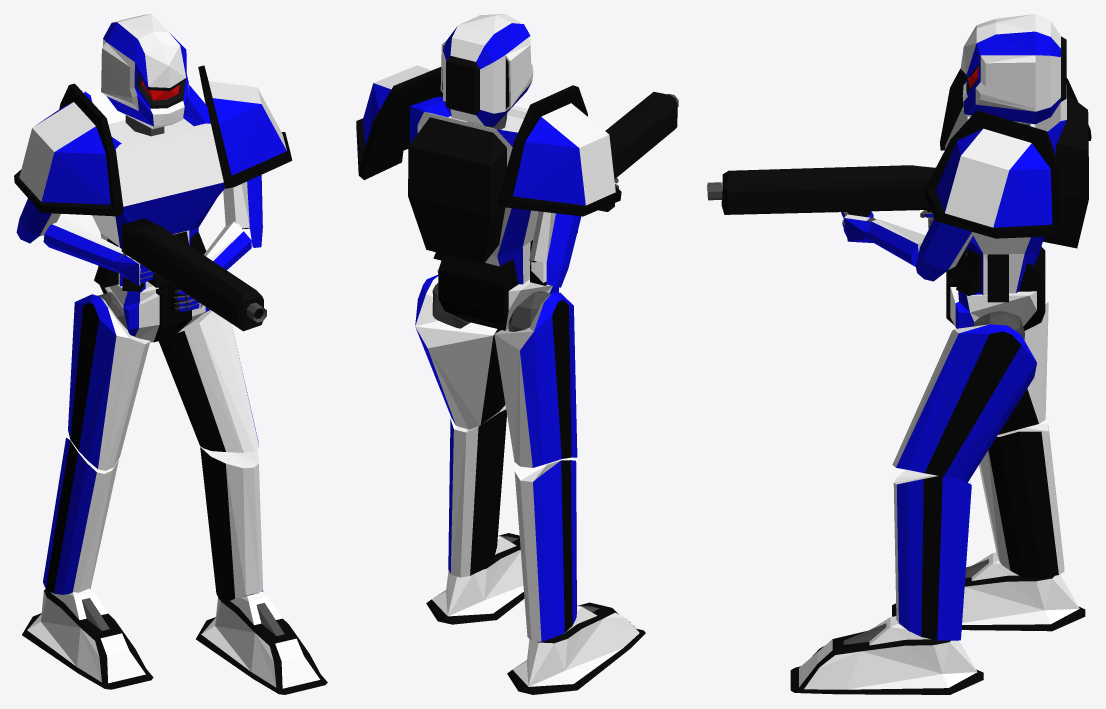
File: robots_000020.obj
3 renders of one model, left to right at view 1: azimuth 30°, elevation 25°; view 2: azimuth 150°, elevation 25°; view 3: azimuth 270°, elevation 25°, orthographic. The views are drawn at different scales.
Parts seen in each view (by area): view 1: Chest_plate_Cube.004, R_Thigh_Cube.005, Cube.002_Cube.059, R_Thigh.002_Cube.027, Head_base_Cube.022, R_Shin.002_Cube.029, R_Foot.002_Cube.035, R_Foot_Cube, R_Shin_Cube.007, Cube_Cube.001, Cube_Cube.021, Pelvis_Cube.006 (+5 smaller); view 2: Chest_plate_Cube.004, Cube.002_Cube.059, R_Thigh_Cube.005, R_Shin_Cube.007, Head_base_Cube.022, R_Shin.002_Cube.029, R_Thigh.002_Cube.027, R_Foot_Cube, Cube_Cube.021, Pelvis_Cube.006, R_Foot.002_Cube.035, Cube_Cube.001 (+3 smaller); view 3: Cube_Cube.021, R_Thigh.002_Cube.027, R_Shin.002_Cube.029, R_Foot.002_Cube.035, R_Shin_Cube.007, Head_base_Cube.022, Cube_Cube.001, Chest_plate_Cube.004, R_Foot_Cube, Pelvis_Cube.006, R_Thigh_Cube.005, L_Arm_Cube.014 (+4 smaller).
Part boxes in pixels (bbox=[...]): Chest_plate_Cube.004: bbox=[84, 85, 224, 292]; R_Thigh_Cube.005: bbox=[68, 294, 150, 470]; Cube.002_Cube.059: bbox=[14, 83, 123, 216]; R_Thigh.002_Cube.027: bbox=[158, 310, 259, 452]; Head_base_Cube.022: bbox=[101, 14, 188, 128]; R_Shin.002_Cube.029: bbox=[200, 446, 263, 601]; R_Foot.002_Cube.035: bbox=[196, 592, 327, 694]; R_Foot_Cube: bbox=[22, 588, 153, 689]; R_Shin_Cube.007: bbox=[43, 437, 118, 594]; Cube_Cube.001: bbox=[121, 218, 266, 331]; Cube_Cube.021: bbox=[198, 65, 292, 188]; Pelvis_Cube.006: bbox=[98, 266, 209, 342]; Chest_plate_Cube.004: bbox=[408, 96, 546, 285]; Cube.002_Cube.059: bbox=[498, 85, 621, 216]; R_Thigh_Cube.005: bbox=[494, 292, 577, 467]; R_Shin_Cube.007: bbox=[514, 460, 576, 641]; Head_base_Cube.022: bbox=[440, 14, 533, 126]; R_Shin.002_Cube.029: bbox=[448, 405, 506, 577]; R_Thigh.002_Cube.027: bbox=[415, 275, 505, 429]; R_Foot_Cube: bbox=[507, 602, 645, 694]; Cube_Cube.021: bbox=[356, 65, 442, 179]; Pelvis_Cube.006: bbox=[437, 254, 558, 330]; R_Foot.002_Cube.035: bbox=[426, 533, 524, 624]; Cube_Cube.001: bbox=[598, 92, 678, 211]; Cube_Cube.021: bbox=[924, 110, 1065, 238]; R_Thigh.002_Cube.027: bbox=[892, 324, 1036, 482]; R_Shin.002_Cube.029: bbox=[893, 469, 971, 640]; R_Foot.002_Cube.035: bbox=[790, 616, 983, 694]; R_Shin_Cube.007: bbox=[979, 420, 1064, 578]; Head_base_Cube.022: bbox=[960, 14, 1066, 124]; Cube_Cube.001: bbox=[707, 165, 935, 218]; Chest_plate_Cube.004: bbox=[945, 84, 1088, 302]; R_Foot_Cube: bbox=[892, 552, 1085, 631]; Pelvis_Cube.006: bbox=[946, 246, 1045, 330]; R_Thigh_Cube.005: bbox=[998, 293, 1048, 434]; L_Arm_Cube.014: bbox=[915, 218, 974, 281].
Bounding box in the file's own units: 1.32 × 3.04 × 1.68.
